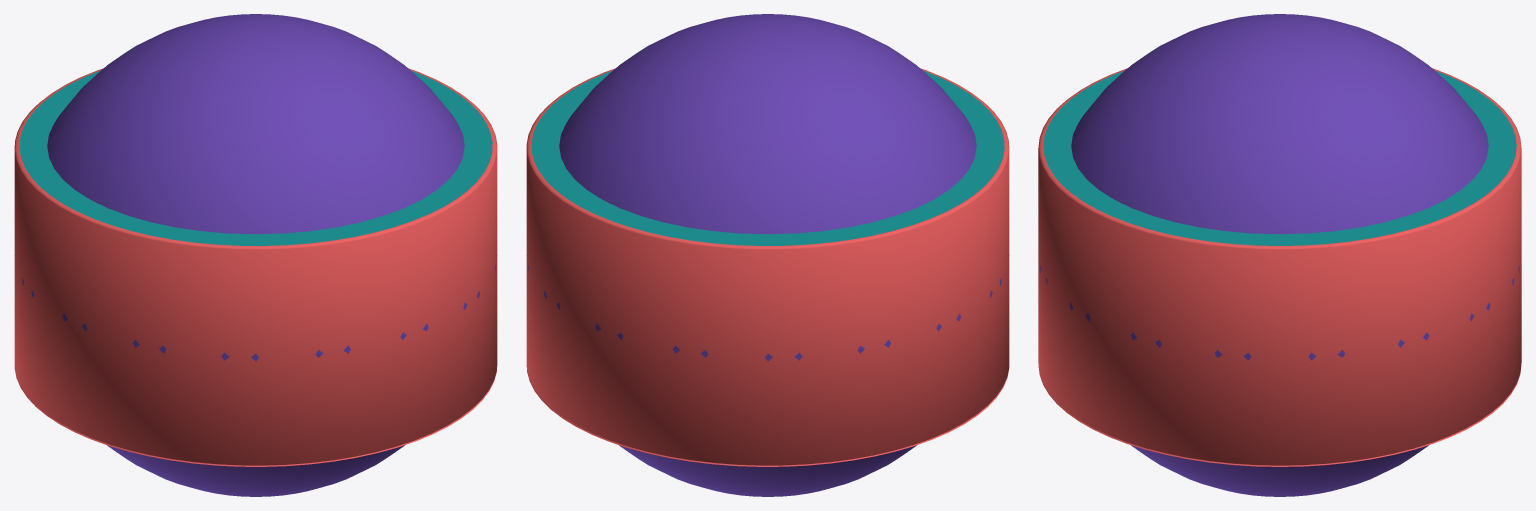
File: solids.glb
3 views of the same model, side by side, from view 1: azimuth 30°, elevation 25°; view 2: azimuth 150°, elevation 25°; view 3: azimuth 270°, elevation 25° (orthographic).
Parts seen in each view (by area): view 1: unit_cylinder, unit_sphere, unit_cone; view 2: unit_cylinder, unit_sphere, unit_cone; view 3: unit_cylinder, unit_sphere, unit_cone.
Boxes of the visible parts, x1,y1,x2,y2 form: unit_cylinder: (14,68,497,465); unit_sphere: (22,14,495,496); unit_cone: (14,366,497,466); unit_cylinder: (526,68,1009,465); unit_sphere: (528,14,1001,496); unit_cone: (526,366,1009,466); unit_cylinder: (1038,68,1521,465); unit_sphere: (1040,14,1519,496); unit_cone: (1038,366,1521,466).
Bounding box in the file's own units: 2 × 2 × 2.
